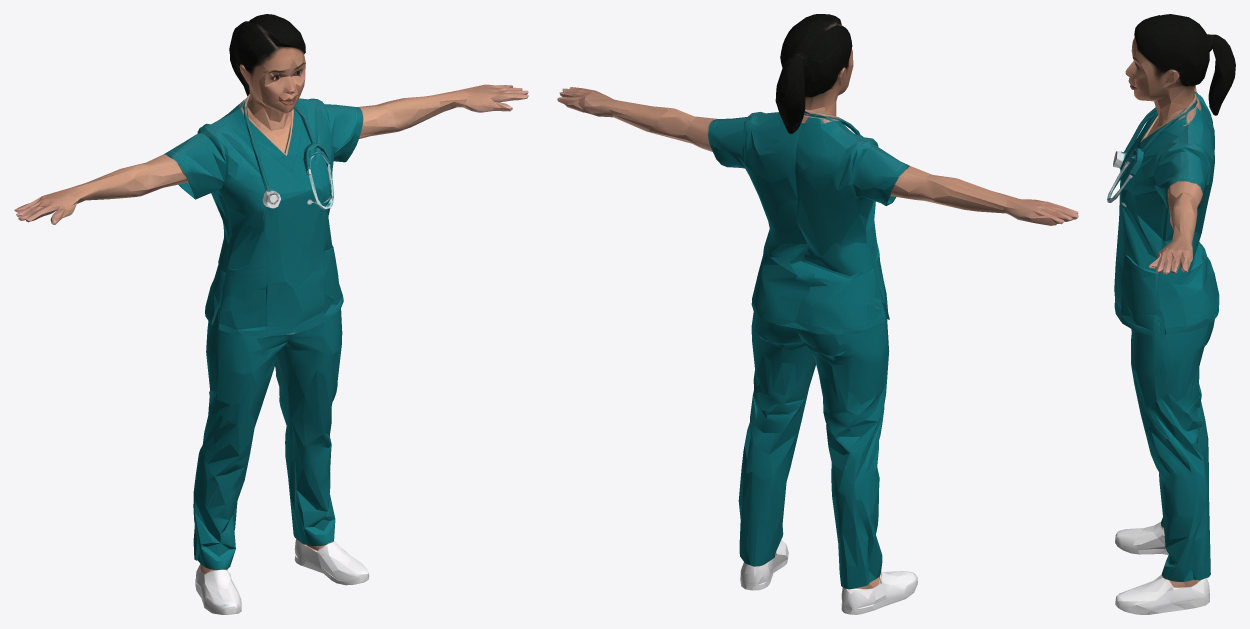
File: image3d.glb
3 renders of one model, left to right at view 1: azimuth 30°, elevation 25°; view 2: azimuth 150°, elevation 25°; view 3: azimuth 270°, elevation 25°, orthographic.
Size of the model in its own units: 1.8 by 1.9 by 0.3958.
Materials: 1 (1 with a texture image).
